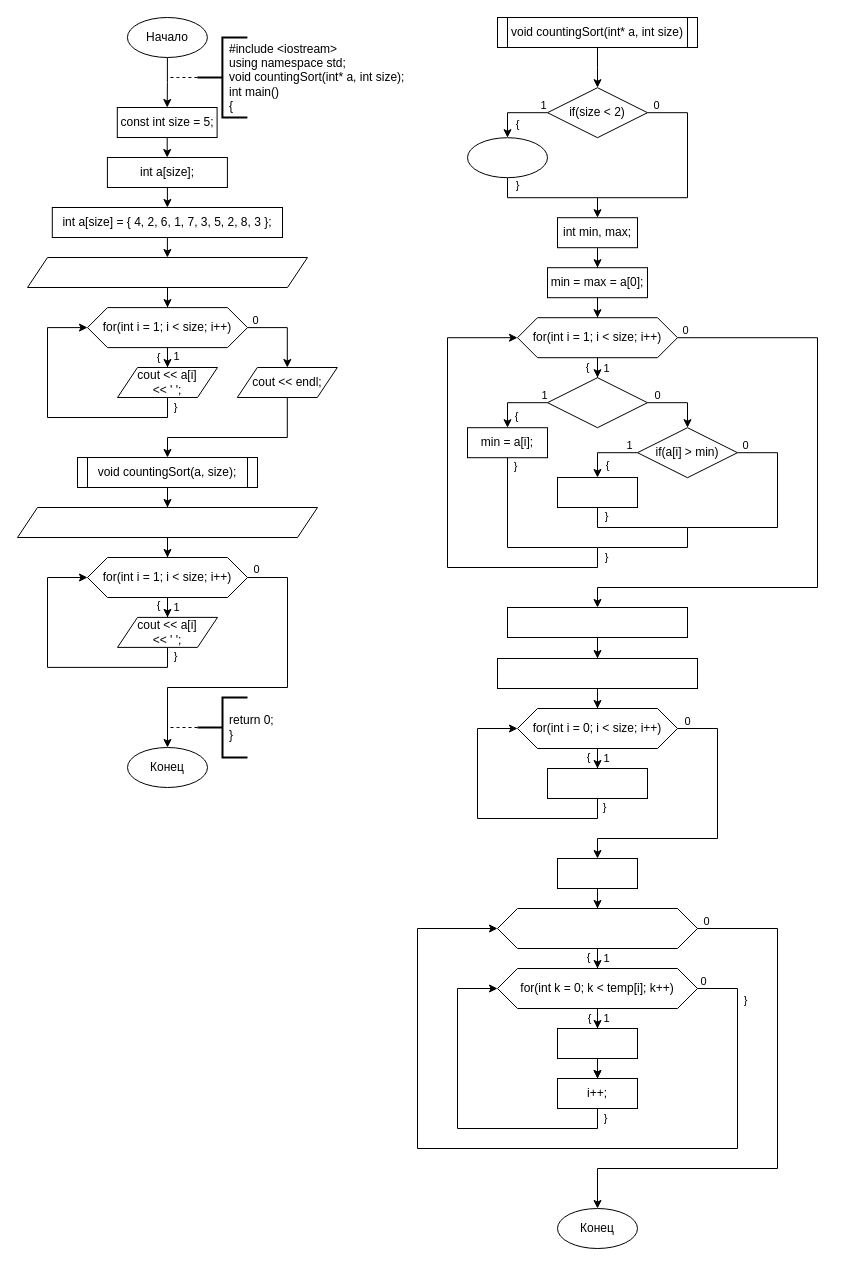
Image size: 843x1266. Some labels were removed from this diagram. The centre of each missing label's shape, as x and y in pixels:
a[i] = j + min;: point (597, 1043)
cout << "Массив до сортировки подсчетом: ";: point (167, 272)
cout << "Массив после сортировки подсчетом: ";: point (167, 522)
for(int j = 0; j < temp_size; j++): point (597, 928)
if(a[i] < min): point (597, 402)
int i = 0;: point (597, 873)
int temp_size = max - min + 1;: point (597, 622)
int* temp = new int[temp_size] {};: point (597, 673)
max = a[i];: point (597, 492)
return;: point (507, 157)
temp[a[i]-min]++;: point (597, 783)
